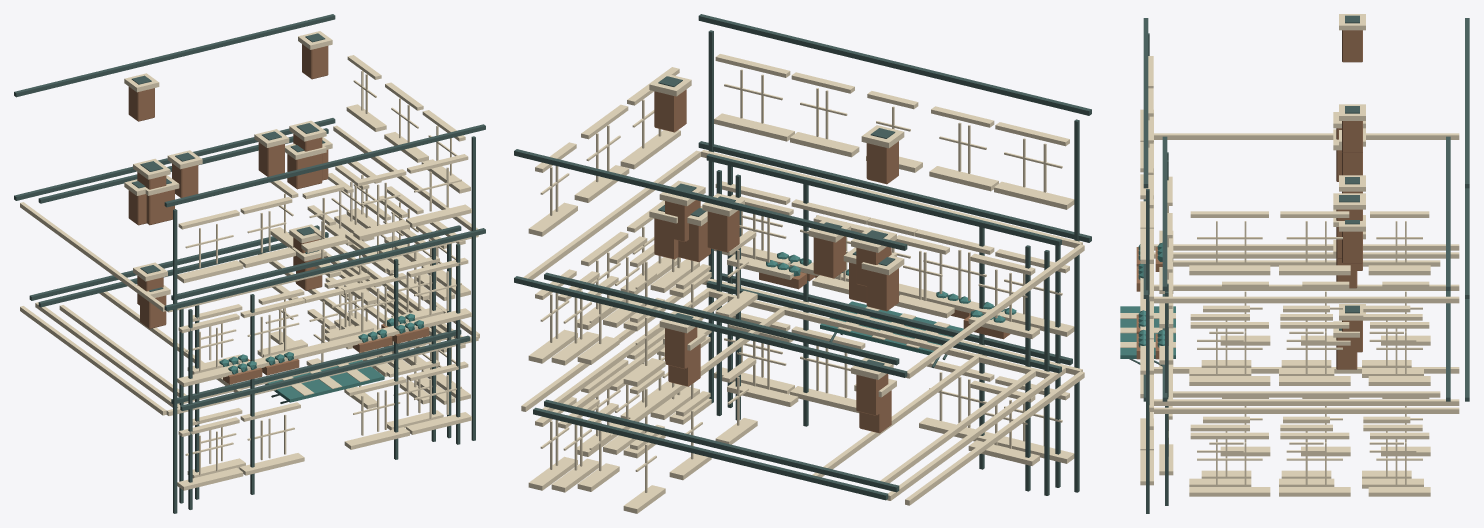
File: architecture-details.glb
The picture shows the model from 3 angles, left to right: view 1: azimuth 30°, elevation 25°; view 2: azimuth 150°, elevation 25°; view 3: azimuth 270°, elevation 25°; orthographic projection. The views are drawn at different scales.
Visible parts, largest first — view 1: batch-detail-clinic-trim, batch-detail-library-trim, batch-detail-post-trim, batch-detail-clinic-metal, batch-detail-bakery-trim, batch-detail-home-1-trim, batch-detail-townhall-trim, batch-detail-bakery-metal, batch-detail-home-3-metal, batch-detail-station-metal, batch-detail-grocery-metal, batch-detail-home-1-metal (+14 smaller); view 2: batch-detail-clinic-trim, batch-detail-bakery-trim, batch-detail-home-1-trim, batch-detail-post-trim, batch-detail-library-trim, batch-detail-clinic-metal, batch-detail-townhall-trim, batch-detail-home-3-trim, batch-detail-bakery-metal, batch-detail-grocery-metal, batch-detail-station-metal, batch-detail-post-metal (+13 smaller); view 3: batch-detail-clinic-trim, batch-detail-post-trim, batch-detail-library-trim, batch-detail-bakery-trim, batch-detail-home-1-trim, batch-detail-home-3-trim, batch-detail-townhall-trim, batch-detail-clinic-metal, batch-detail-bakery-metal, batch-detail-clinic-brick, batch-detail-library-metal, batch-detail-grocery-brick (+9 smaller).
Boxes of the visible parts, <box> form: batch-detail-clinic-trim: <box>20,31,479,486</box>; batch-detail-library-trim: <box>22,137,479,490</box>; batch-detail-post-trim: <box>59,144,438,474</box>; batch-detail-clinic-metal: <box>14,14,485,513</box>; batch-detail-bakery-trim: <box>44,143,453,478</box>; batch-detail-home-1-trim: <box>99,129,400,464</box>; batch-detail-townhall-trim: <box>21,31,471,306</box>; batch-detail-bakery-metal: <box>38,128,461,503</box>; batch-detail-home-3-metal: <box>30,121,469,509</box>; batch-detail-station-metal: <box>29,225,470,509</box>; batch-detail-grocery-metal: <box>38,232,461,502</box>; batch-detail-home-1-metal: <box>92,131,408,494</box>; batch-detail-clinic-trim: <box>521,58,1084,505</box>; batch-detail-bakery-trim: <box>553,194,1052,488</box>; batch-detail-home-1-trim: <box>618,193,987,513</box>; batch-detail-post-trim: <box>572,198,1035,491</box>; batch-detail-library-trim: <box>521,181,1074,490</box>; batch-detail-clinic-metal: <box>514,14,1091,492</box>; batch-detail-townhall-trim: <box>523,54,1074,279</box>; batch-detail-home-3-trim: <box>542,184,1065,500</box>; batch-detail-bakery-metal: <box>544,153,1061,495</box>; batch-detail-grocery-metal: <box>544,280,1061,495</box>; batch-detail-station-metal: <box>533,273,1072,500</box>; batch-detail-post-metal: <box>563,158,1042,491</box>; batch-detail-clinic-trim: <box>1140,14,1459,496</box>; batch-detail-post-trim: <box>1159,141,1440,478</box>; batch-detail-library-trim: <box>1120,128,1459,496</box>; batch-detail-bakery-trim: <box>1154,129,1440,488</box>; batch-detail-home-1-trim: <box>1140,130,1459,456</box>; batch-detail-home-3-trim: <box>1150,121,1459,486</box>; batch-detail-townhall-trim: <box>1140,56,1459,298</box>; batch-detail-clinic-metal: <box>1143,15,1469,513</box>; batch-detail-bakery-metal: <box>1162,136,1450,505</box>; batch-detail-clinic-brick: <box>1342,30,1362,152</box>; batch-detail-library-metal: <box>1129,188,1469,513</box>; batch-detail-grocery-brick: <box>1336,258,1357,369</box>.
Size of the model in its own units: 10.51 by 10.73 by 9.15.
